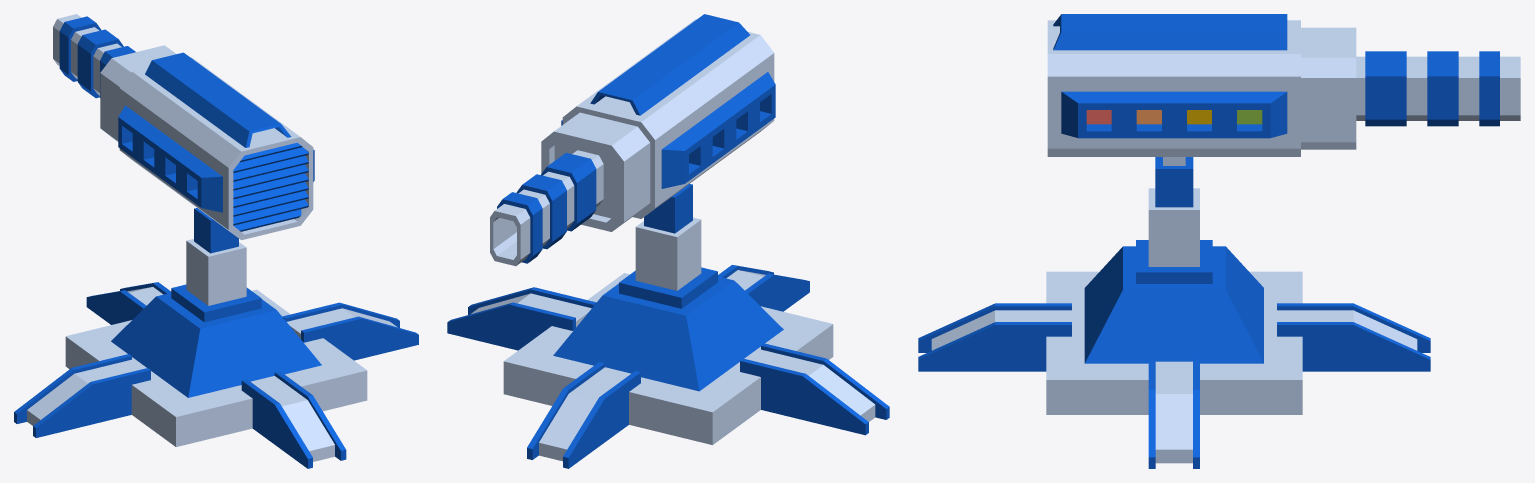
The model's file is Turret_Laser_1.fbx.
The picture shows the model from 3 angles, left to right: view 1: azimuth 30°, elevation 25°; view 2: azimuth 150°, elevation 25°; view 3: azimuth 270°, elevation 25°; orthographic projection. The views are drawn at different scales.
Visible parts, largest first — view 1: LaserTurretBase, LaserTurretHead; view 2: LaserTurretBase, LaserTurretHead; view 3: LaserTurretBase, LaserTurretHead.
Part boxes in pixels (box(x1,y1,x2,y2)): LaserTurretBase: box(14, 208, 418, 468); LaserTurretHead: box(53, 14, 314, 240); LaserTurretBase: box(447, 184, 889, 468); LaserTurretHead: box(490, 14, 775, 266); LaserTurretBase: box(918, 157, 1430, 468); LaserTurretHead: box(1047, 14, 1520, 156).
Bounding box in the file's own units: 40 × 29.09 × 47.04.
1 material, 1 textured.
